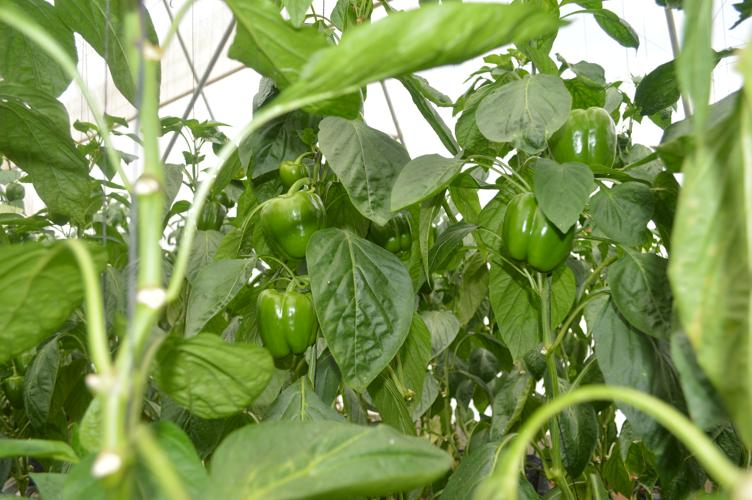BellPepper: (499, 191, 575, 278), (548, 106, 614, 176), (254, 290, 320, 357), (262, 192, 324, 256), (366, 213, 412, 252), (282, 162, 305, 186)
